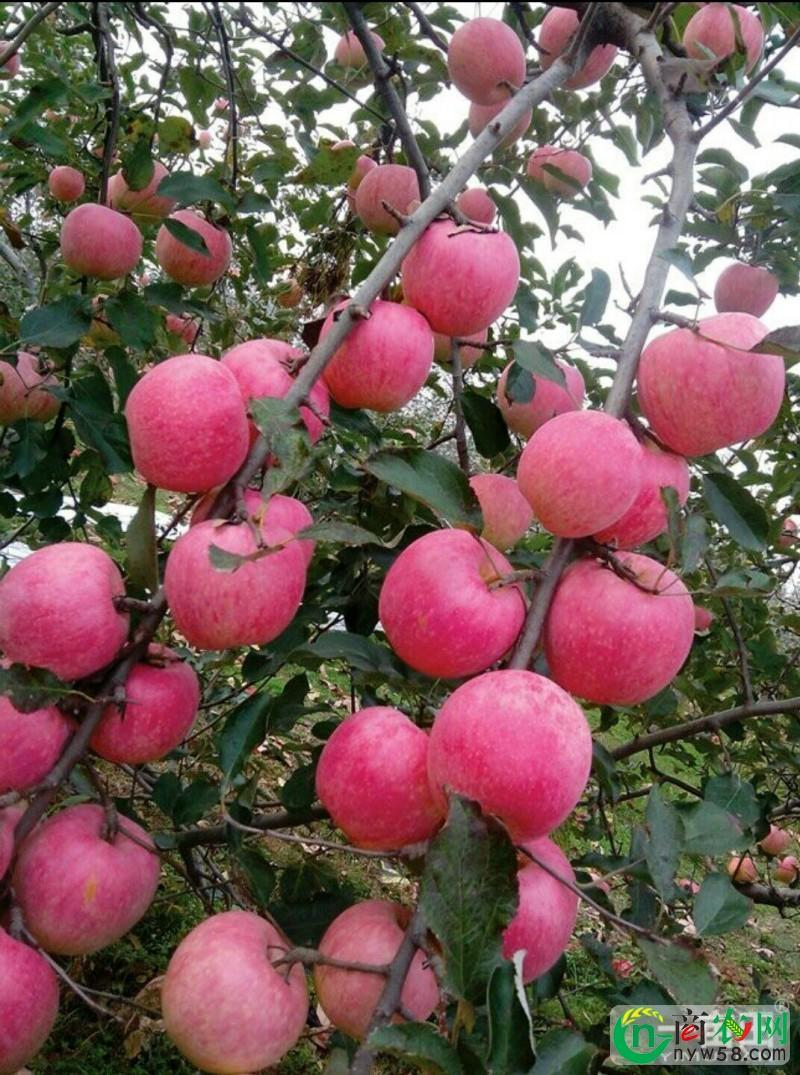apple: (542, 550, 703, 708), (160, 906, 310, 1075), (212, 903, 366, 1059), (5, 803, 160, 950), (377, 527, 524, 680), (164, 505, 311, 654), (514, 411, 661, 546), (299, 901, 440, 1038), (311, 702, 437, 854), (631, 322, 772, 454), (1, 538, 133, 678), (124, 351, 249, 490), (402, 200, 517, 338), (318, 297, 429, 414), (445, 16, 525, 127), (59, 201, 140, 278), (349, 161, 420, 233), (712, 261, 776, 321)
